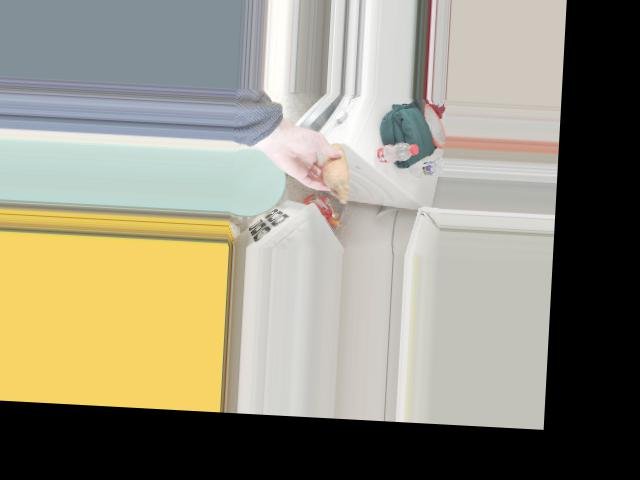sweet_potato: (323, 146, 351, 192)
